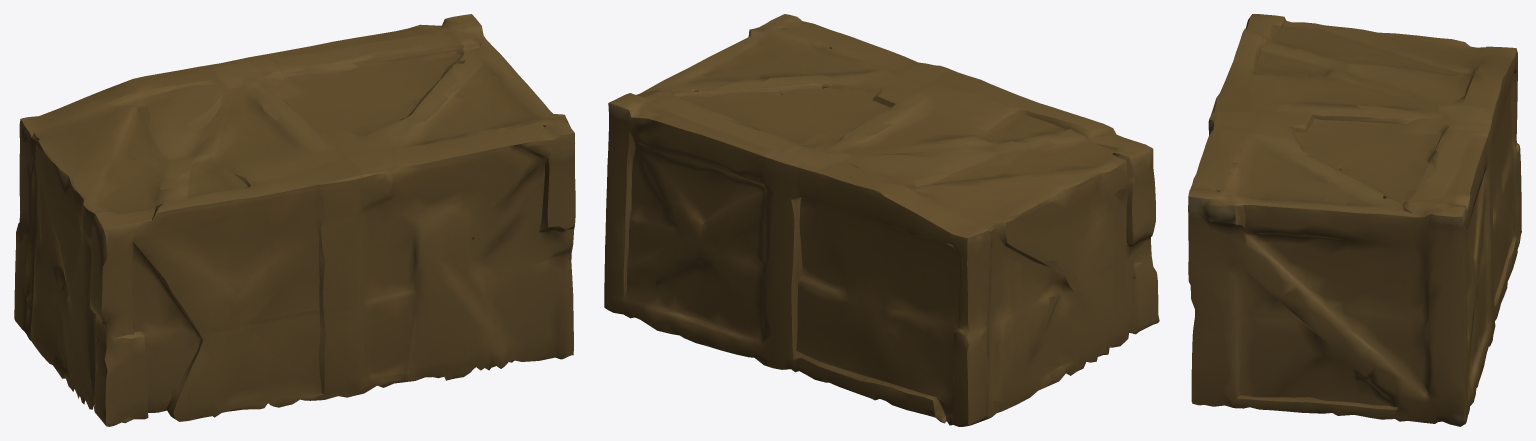
Rendered from ENV_06_CRATE.glb.
The picture shows the model from 3 angles, left to right: view 1: azimuth 30°, elevation 25°; view 2: azimuth 150°, elevation 25°; view 3: azimuth 270°, elevation 25°; orthographic projection. The views are drawn at different scales.
Visible parts, largest first — view 1: world; view 2: world; view 3: world.
Part boxes in pixels (left/top/right/bottom): world: left=14, top=14, right=575, bottom=426; world: left=604, top=14, right=1159, bottom=426; world: left=1188, top=14, right=1521, bottom=426.
Bounding box in the file's own units: 1 × 0.4578 × 0.6428.
1 material, 1 textured.
